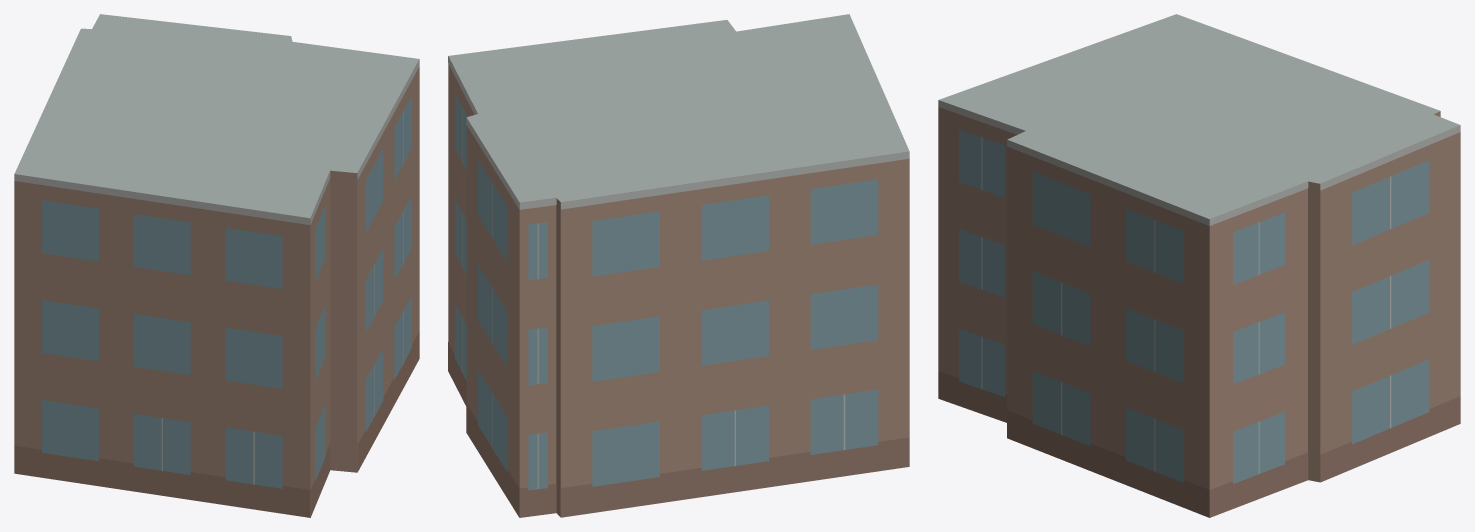
Rendered from survey-upis-32590294.glb.
3 views of the same model, side by side, from view 1: azimuth 30°, elevation 25°; view 2: azimuth 150°, elevation 25°; view 3: azimuth 270°, elevation 25° (orthographic). The views are drawn at different scales.
Parts seen in each view (by area): view 1: survey-upis-32590294.tmp; view 2: survey-upis-32590294.tmp; view 3: survey-upis-32590294.tmp.
Boxes of the visible parts, x1,y1,x2,y2 form: survey-upis-32590294.tmp: (14,14,419,517); survey-upis-32590294.tmp: (448,14,909,517); survey-upis-32590294.tmp: (938,14,1460,517).
Bounding box in the file's own units: 15.63 × 10.6 × 16.81.
